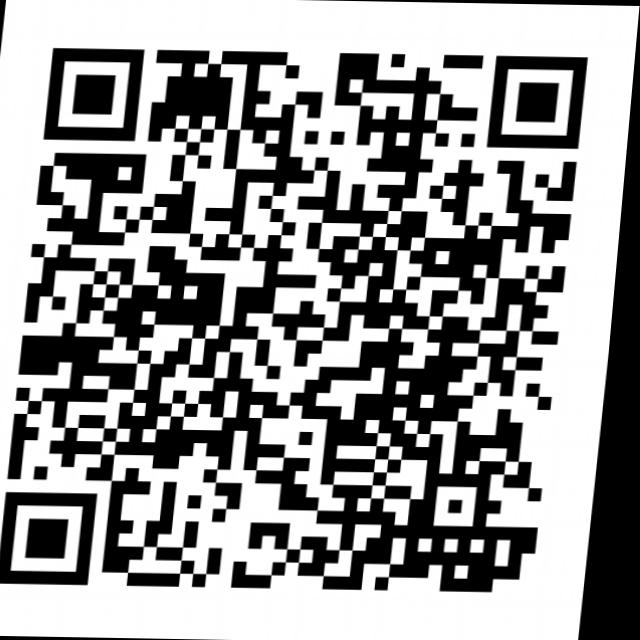QR_CODE: (0, 31, 603, 604)
